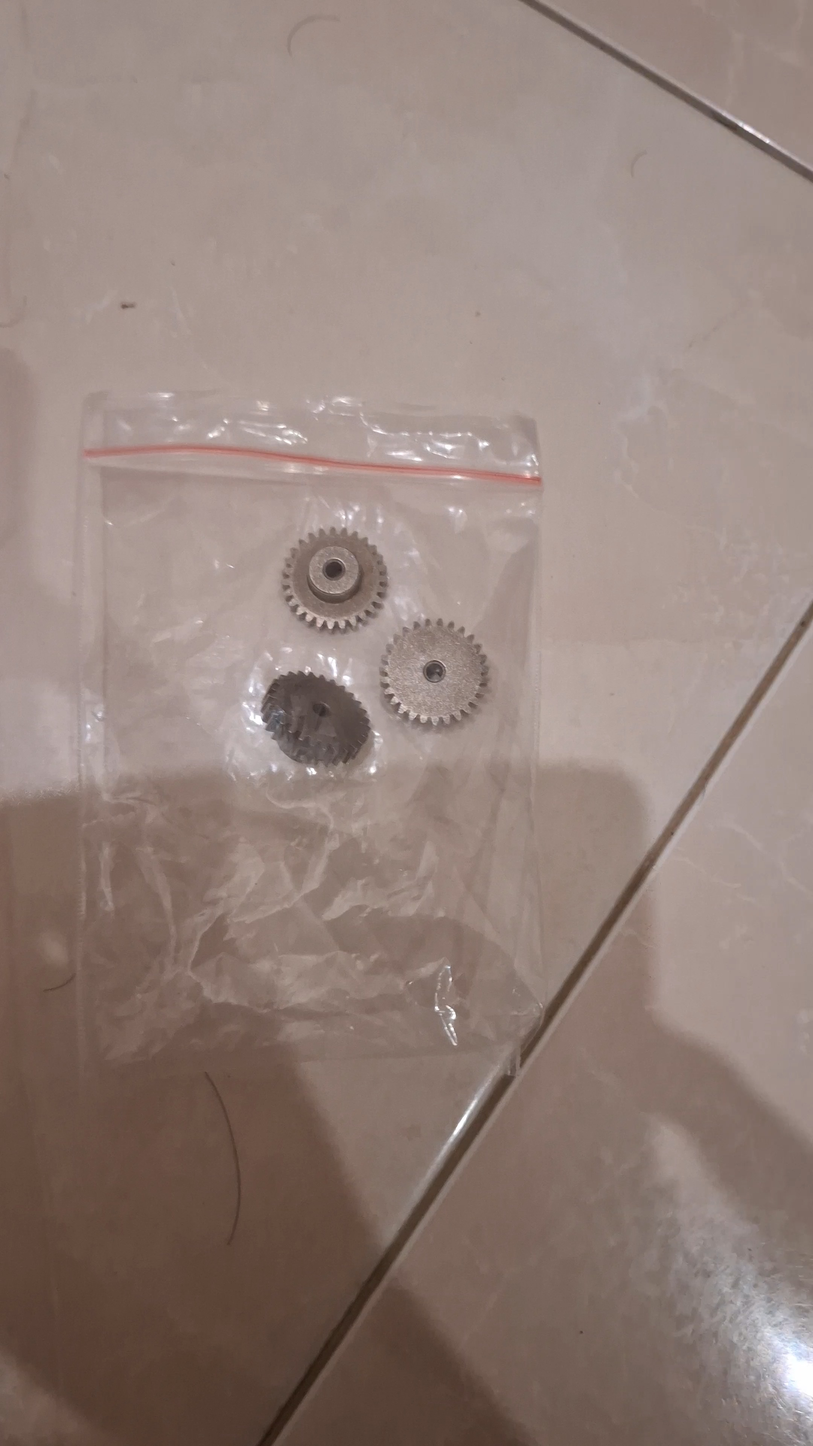spur gear: (376, 617, 490, 727), (279, 526, 389, 632), (257, 669, 373, 769)
